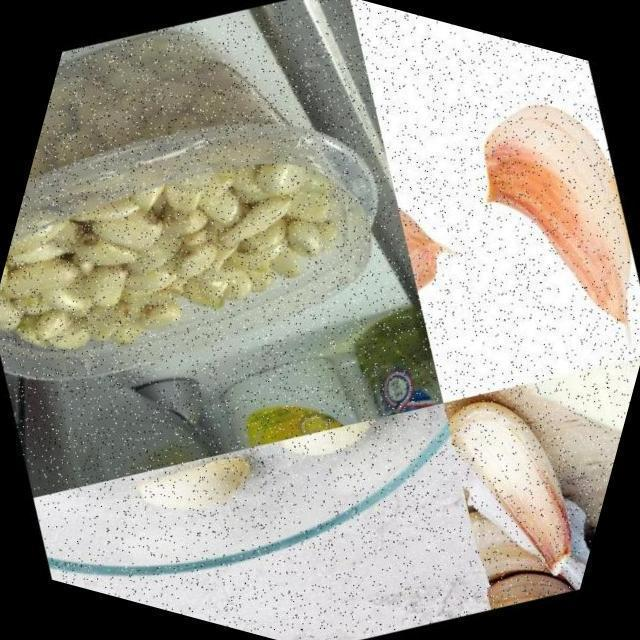garlic: (0, 0, 425, 457), (411, 56, 640, 382), (401, 353, 630, 610), (348, 159, 526, 383), (448, 445, 609, 628), (497, 320, 640, 485), (375, 7, 569, 96)
